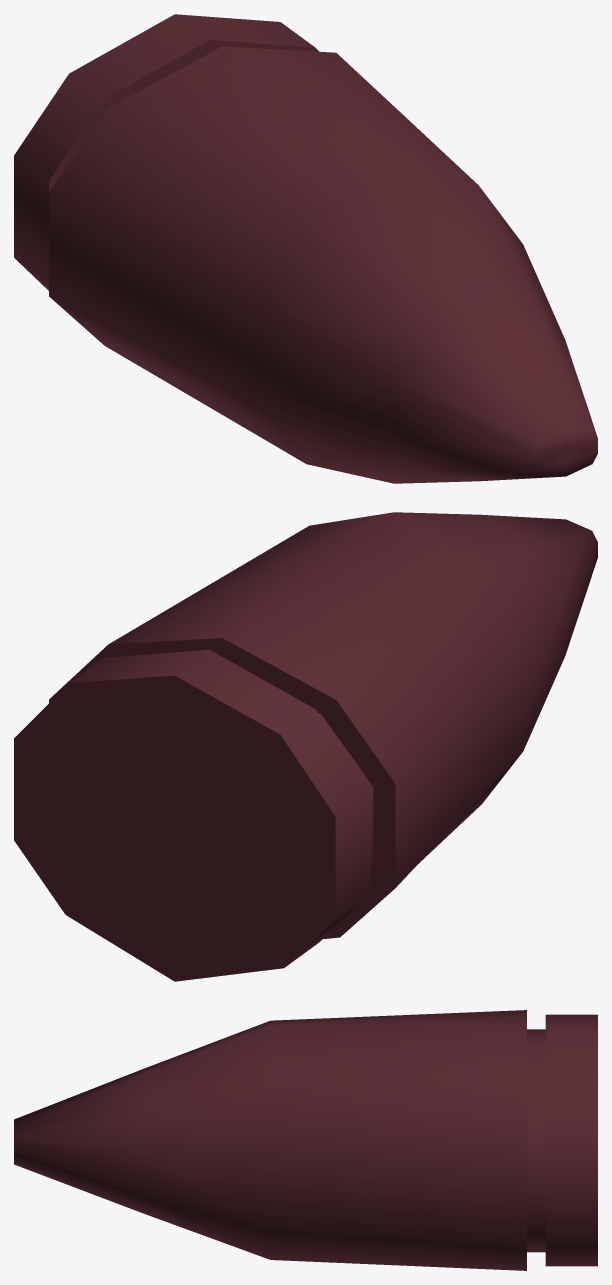
The model's file is tailgunner_projectile.fbx.
3 renders of one model, top to bottom at view 1: azimuth 30°, elevation 25°; view 2: azimuth 150°, elevation 25°; view 3: azimuth 270°, elevation 25°, orthographic. The views are drawn at different scales.
Visible parts, largest first — view 1: tailgunner_projectile; view 2: tailgunner_projectile; view 3: tailgunner_projectile.
Part boxes in pixels (bbox=[...]): tailgunner_projectile: bbox=[14, 14, 597, 483]; tailgunner_projectile: bbox=[14, 512, 597, 981]; tailgunner_projectile: bbox=[14, 1010, 597, 1270].
Bounding box in the file's own units: 233 × 200 × 455.
